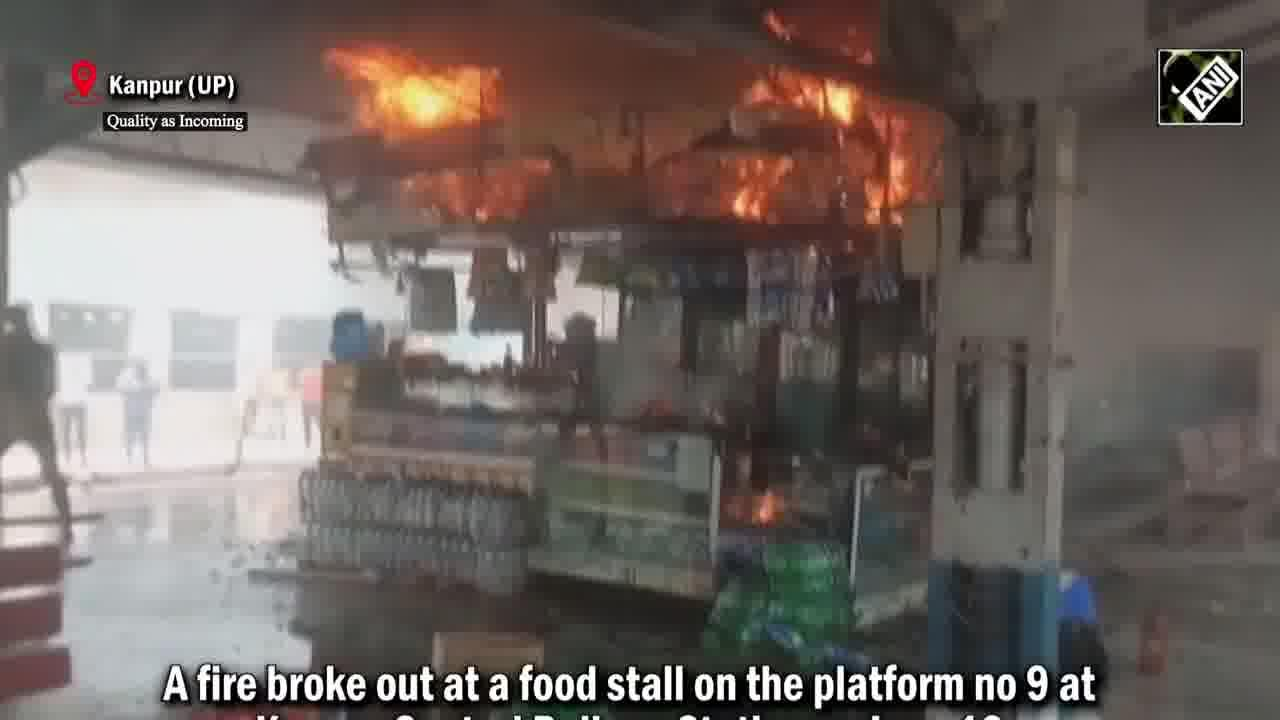fire: (324, 46, 506, 139), (737, 68, 859, 124), (856, 111, 913, 222), (729, 156, 774, 220)
